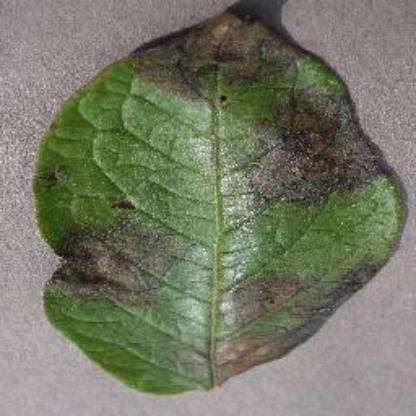Late-Blight: (23, 6, 404, 400)
